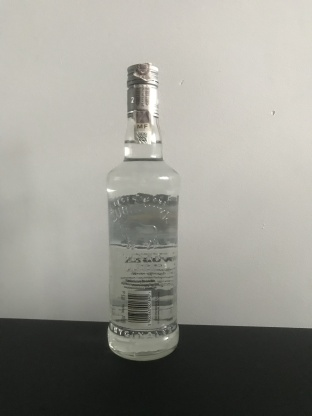nakretka: (125, 61, 160, 119)
